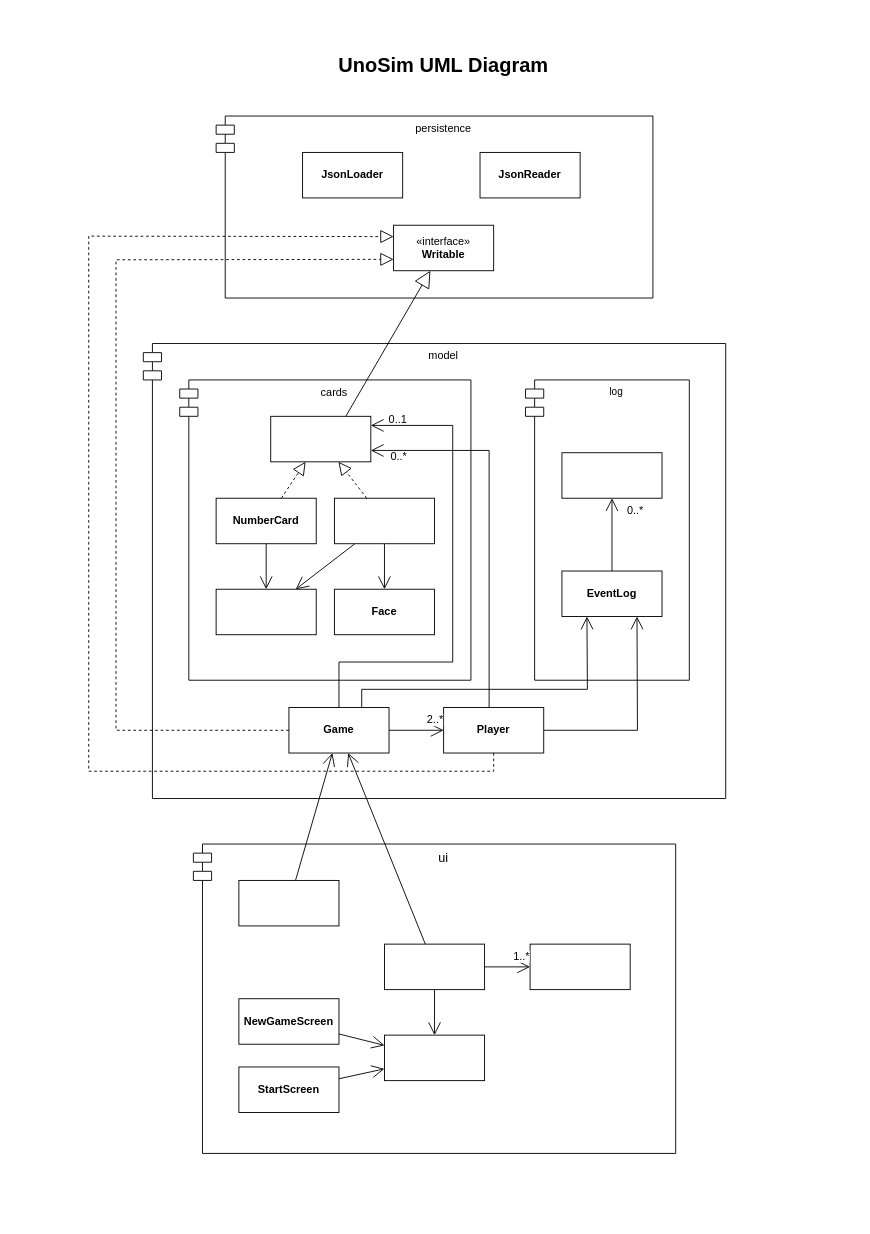
This 870x1234 diagram has some shape labels left out. The centre of each missing label's shape, as x and y in pixels:
"CardPanel" goes at (579,966).
"Color" goes at (265,611).
"ConsoleUI" goes at (288,903).
"Event" goes at (611,475).
"GameScreen" goes at (434,966).
"PowerCard" goes at (384,520).
"UnoUI" goes at (434,1057).
"«interface» Card" goes at (320,438).
